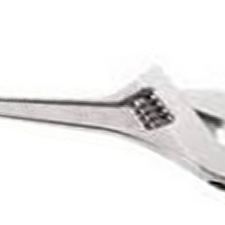Wrench: (2, 57, 225, 191)
